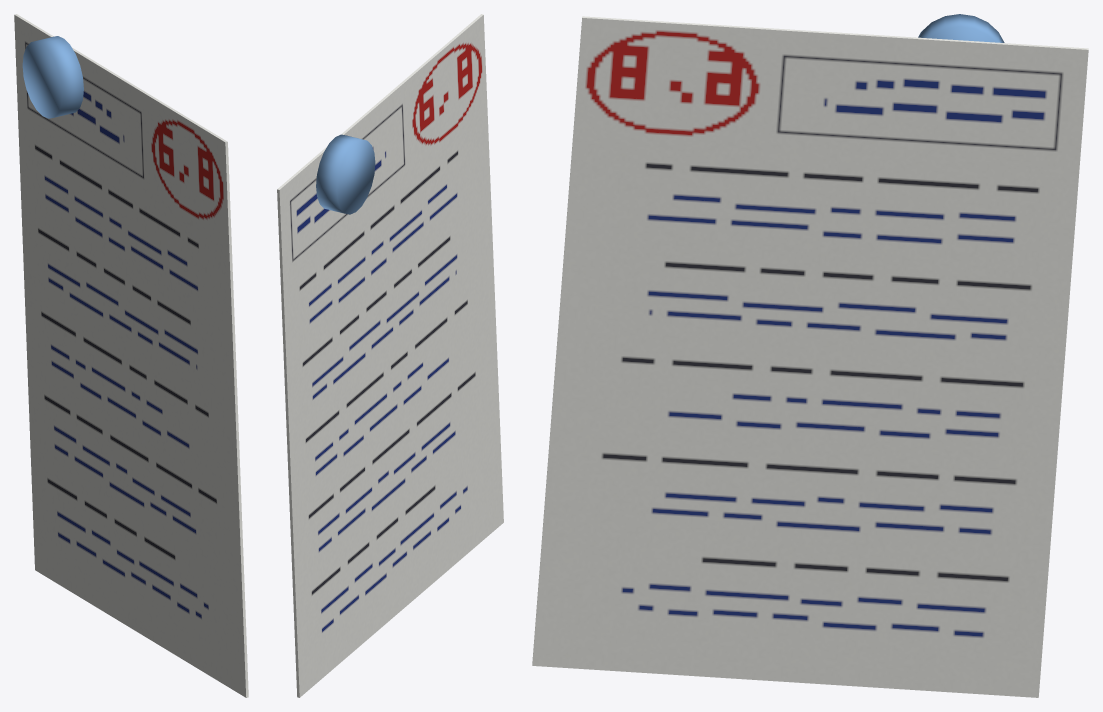
Rendered from escena.casa.prueba_refri.fbx.
3 renders of one model, left to right at view 1: azimuth 30°, elevation 25°; view 2: azimuth 150°, elevation 25°; view 3: azimuth 270°, elevation 25°, orthographic. The views are drawn at different scales.
Parts seen in each view (by area): view 1: Prueba, Iman; view 2: Prueba, Iman; view 3: Prueba, Iman.
Boxes of the visible parts, x1=… form: Prueba: x1=14, y1=14, x2=248, y2=697; Iman: x1=22, y1=36, x2=83, y2=118; Prueba: x1=277, y1=14, x2=503, y2=697; Iman: x1=316, y1=134, x2=375, y2=214; Prueba: x1=532, y1=16, x2=1088, y2=697; Iman: x1=918, y1=14, x2=1004, y2=42.
Size of the model in its own units: 0.013 by 0.2513 by 0.1863.
Materials: 2 (1 with a texture image).
